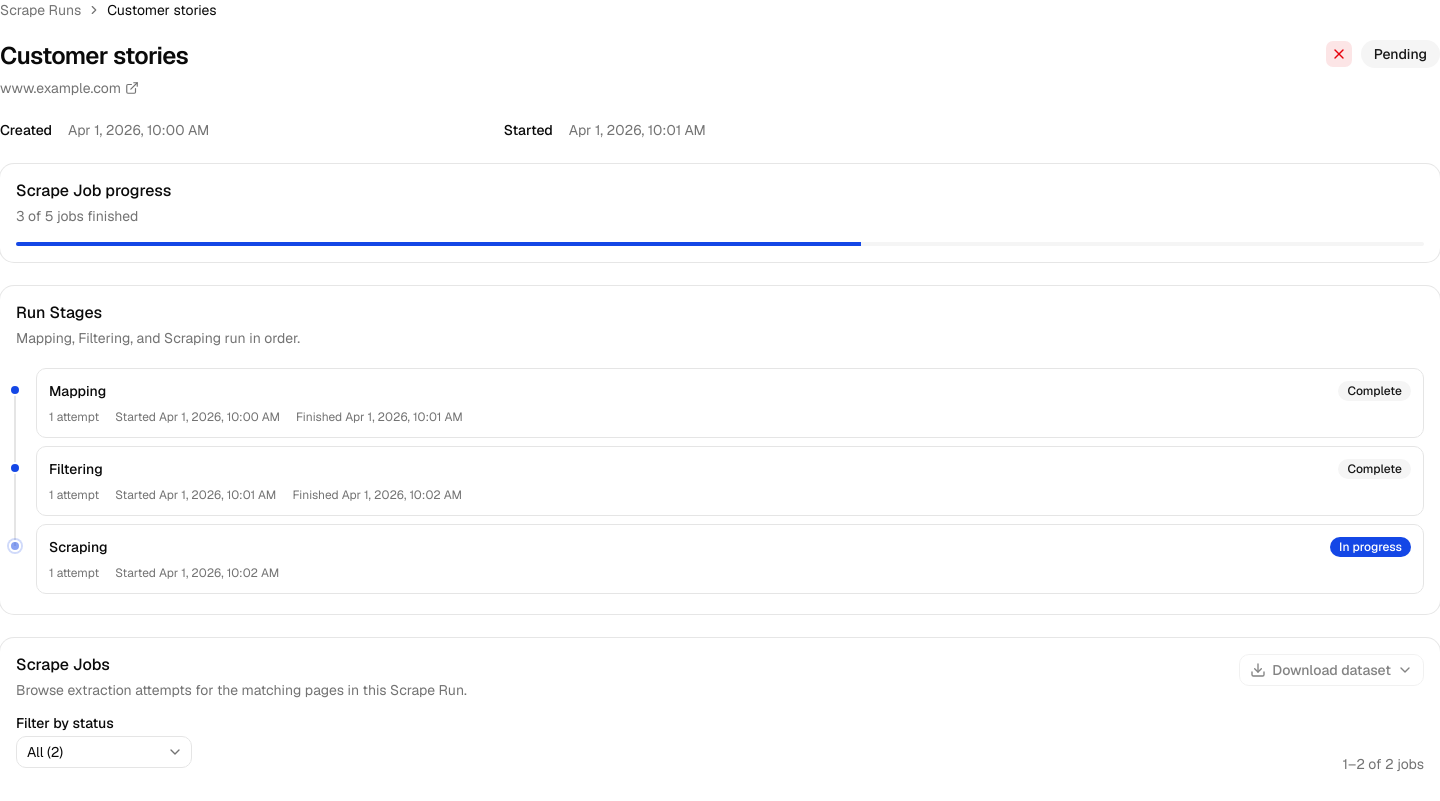
it: Scrape Run cancellation › keeps confirmed Cancelled state and ignores an older failed Retry after a newer success
Expected: the heading "Customer stories" is shown, x1=0 y1=40 x2=188 y2=72
Click the button named "Cancel Scrape Run" at point(1339, 54), box x1=1325 y1=40 x2=1353 y2=68
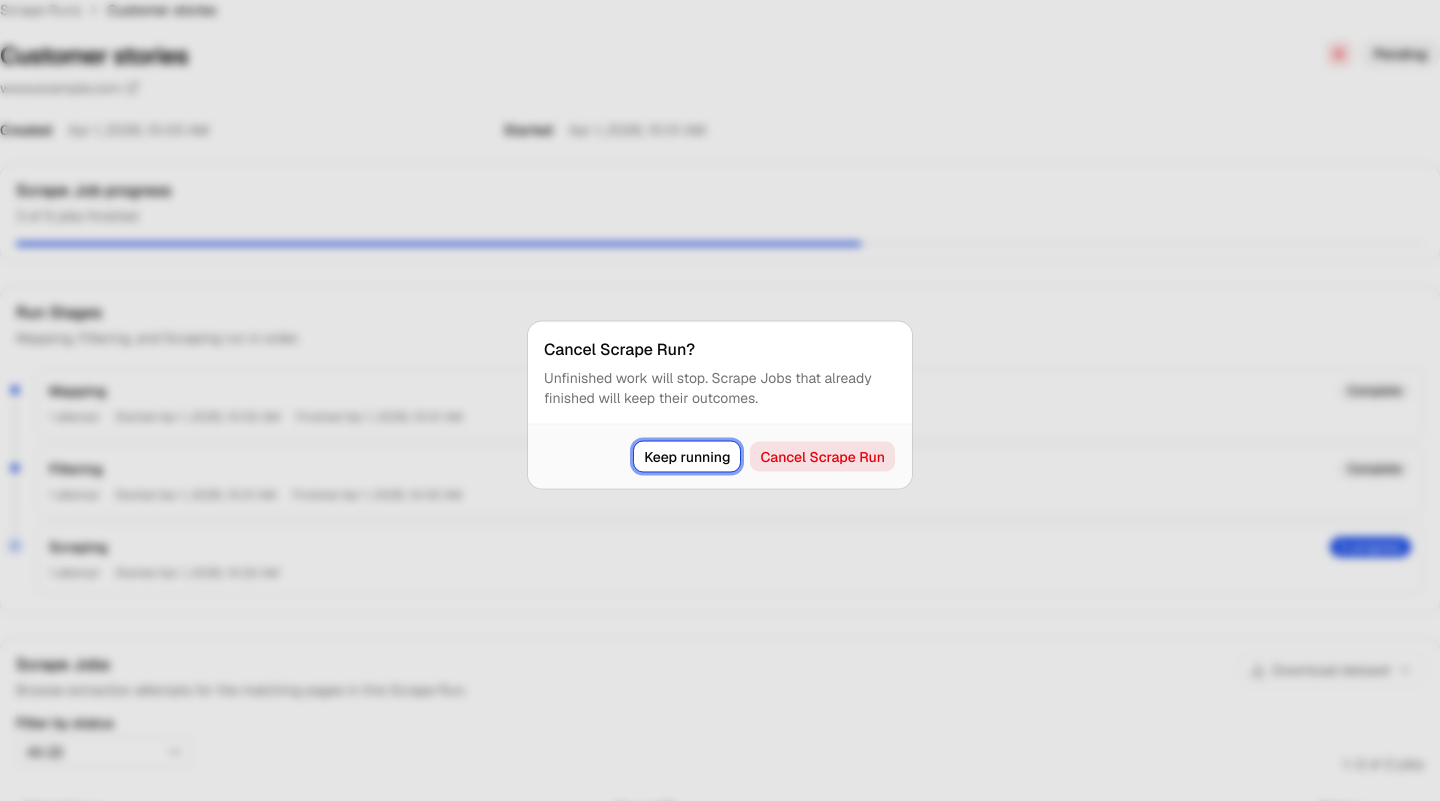
Click the button "Cancel Scrape Run" at point(823, 456), box x1=749 y1=440 x2=896 y2=472
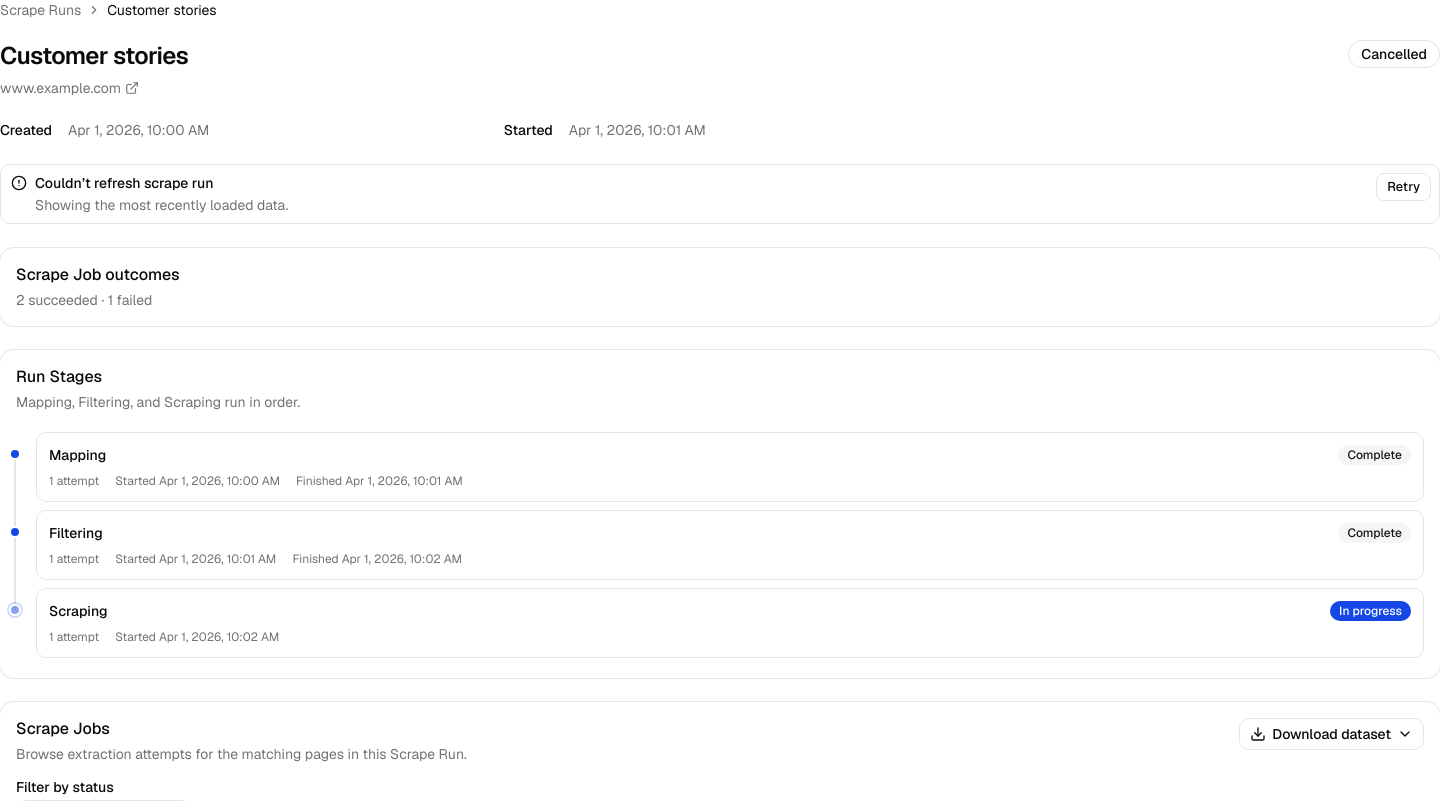
Result: the text "Couldn’t refresh scrape run" is shown at x1=35 y1=174 x2=214 y2=192
Result: the text named "Status: Cancelled" is shown at x1=1348 y1=40 x2=1439 y2=68
Result: the text "2 succeeded · 1 failed" is shown at x1=16 y1=291 x2=152 y2=309
Click the button "Retry" at point(1404, 187), box x1=1376 y1=173 x2=1431 y2=201
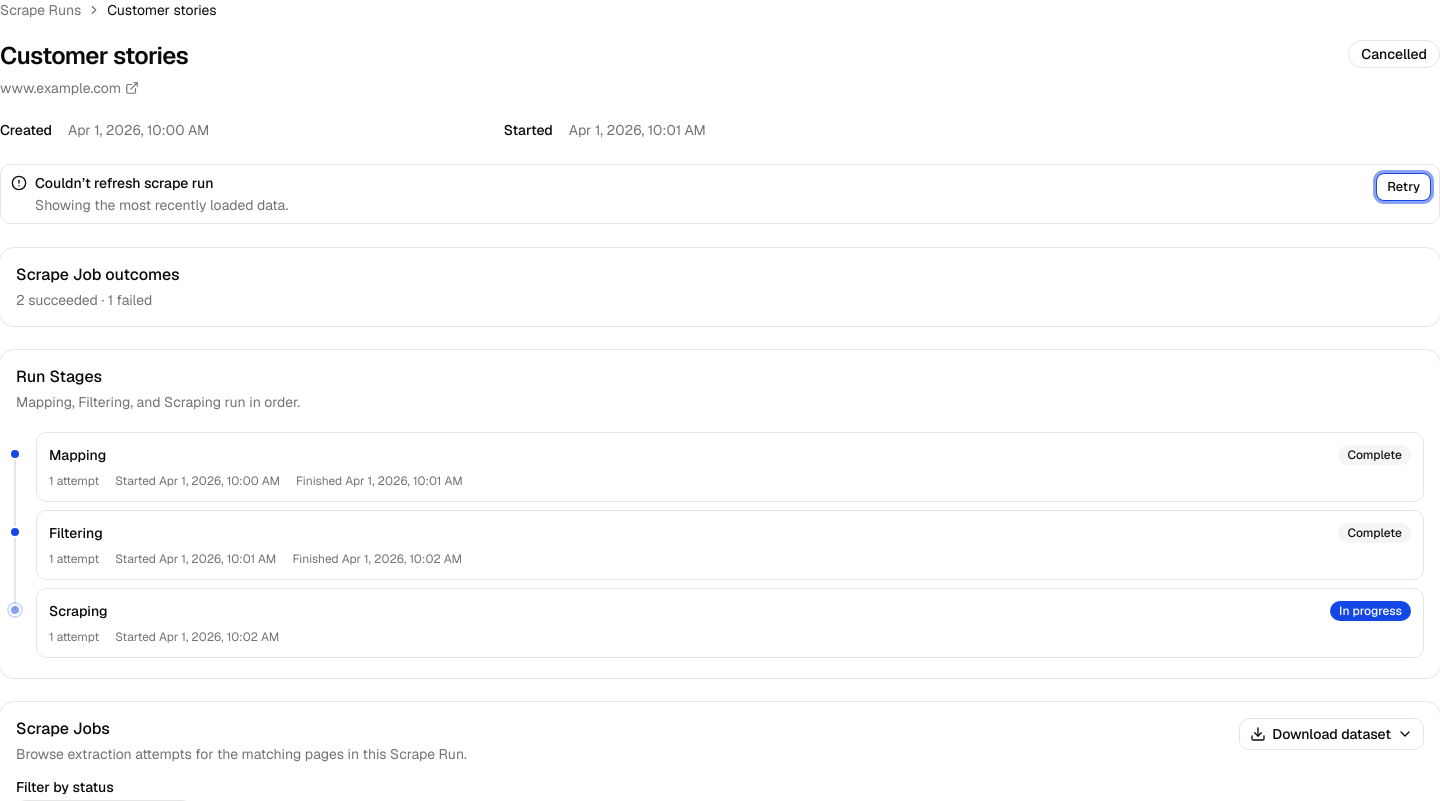
Click the button "Retry" at point(1404, 187), box x1=1376 y1=173 x2=1431 y2=201
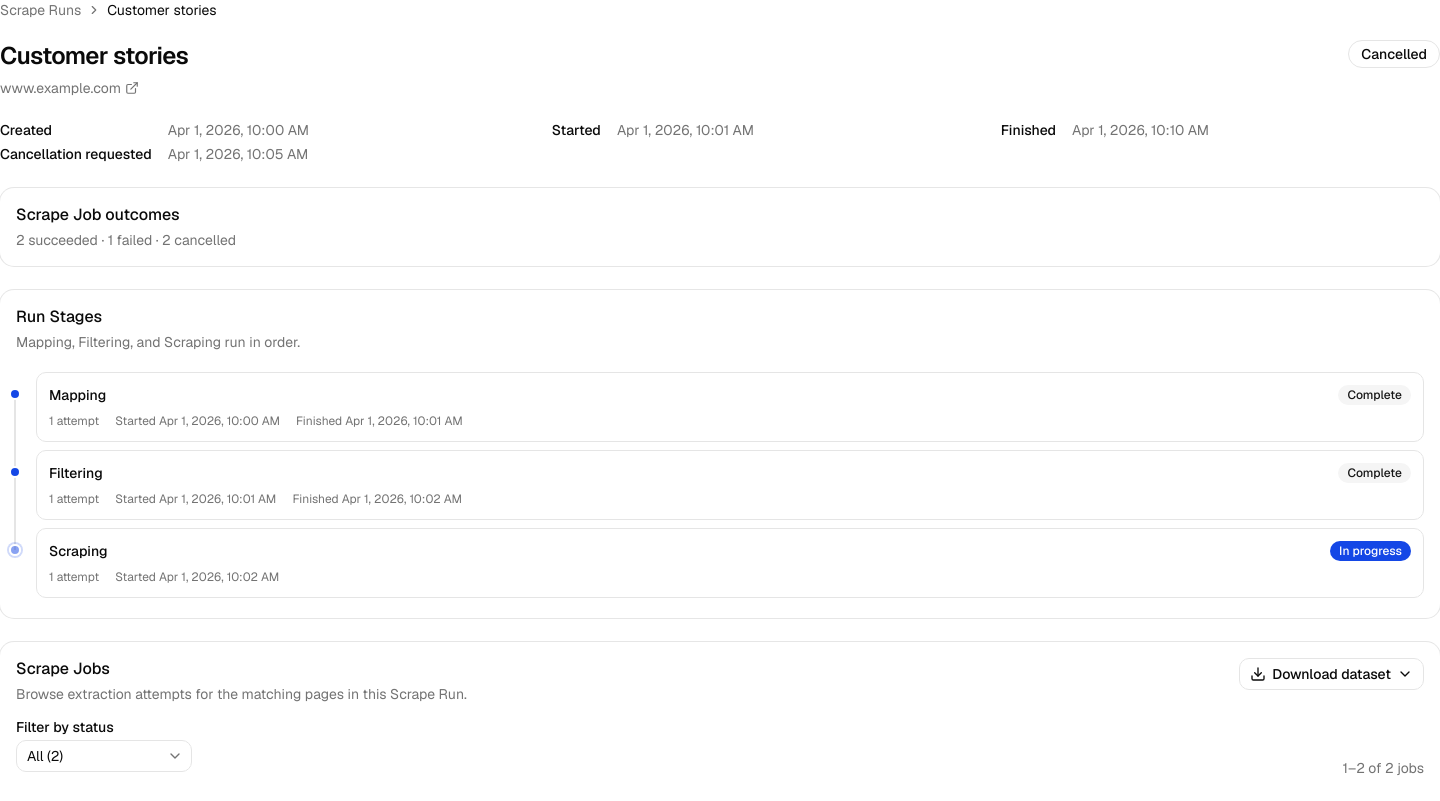
Result: the text "2 succeeded · 1 failed · 2 cancelled" is shown at x1=16 y1=231 x2=236 y2=249
Result: the text "Couldn’t refresh scrape run" is gone
